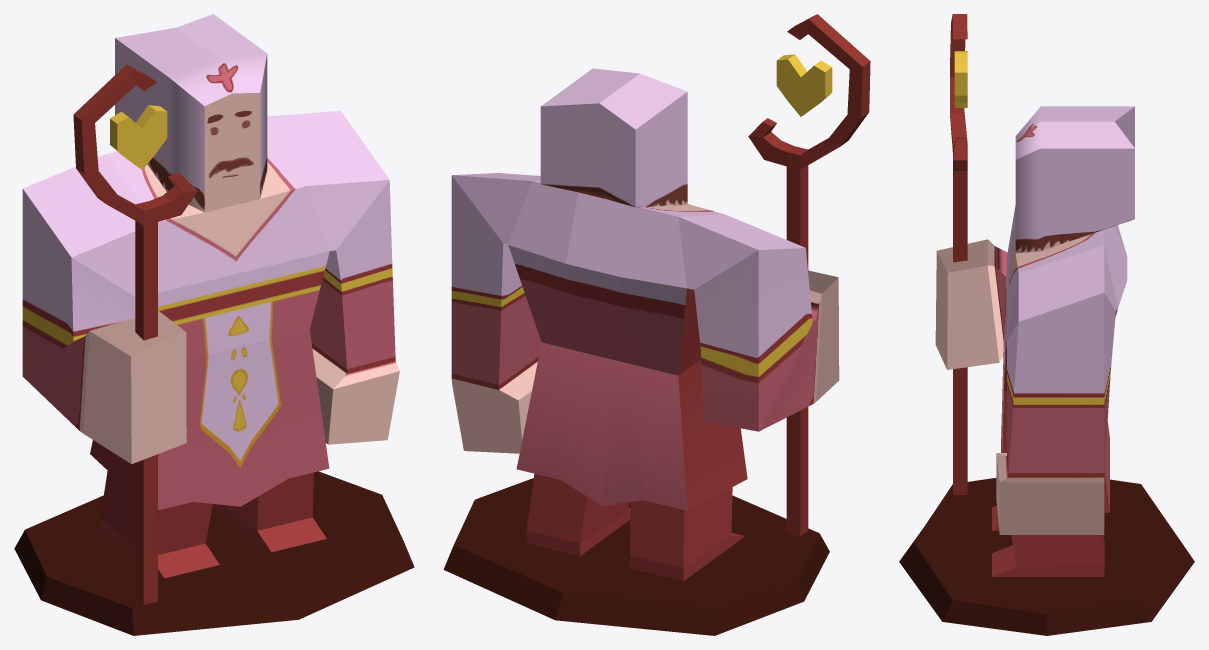
The model's file is Pawn_Swagg.fbx.
The picture shows the model from 3 angles, left to right: view 1: azimuth 30°, elevation 25°; view 2: azimuth 150°, elevation 25°; view 3: azimuth 270°, elevation 25°; orthographic projection. The views are drawn at different scales.
Visible parts, largest first — view 1: pCube2, pCylinder2, pCube3, pCube4; view 2: pCube2, pCylinder2, pCube3, pCube4; view 3: pCube2, pCylinder2, pCube3, pCube4.
Boxes of the visible parts, x1,y1,x2,y2 form: pCube2: (22, 14, 399, 578); pCylinder2: (14, 471, 414, 635); pCube3: (73, 64, 197, 604); pCube4: (110, 105, 167, 169); pCube2: (451, 68, 839, 581); pCylinder2: (443, 478, 829, 635); pCube3: (748, 14, 870, 536); pCube4: (776, 54, 832, 116); pCube2: (935, 106, 1134, 576); pCylinder2: (899, 478, 1194, 635); pCube3: (950, 14, 967, 494); pCube4: (954, 51, 967, 107).
Bounding box in the file's own units: 50.97 × 75.5 × 41.26.
